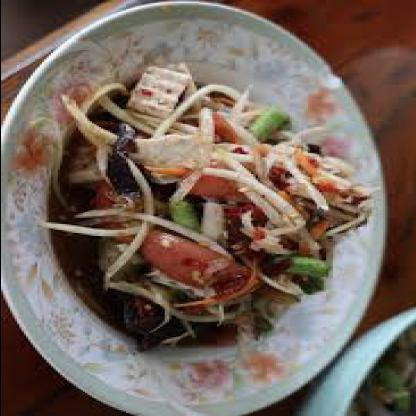Papaya Salad: (40, 58, 352, 374)
